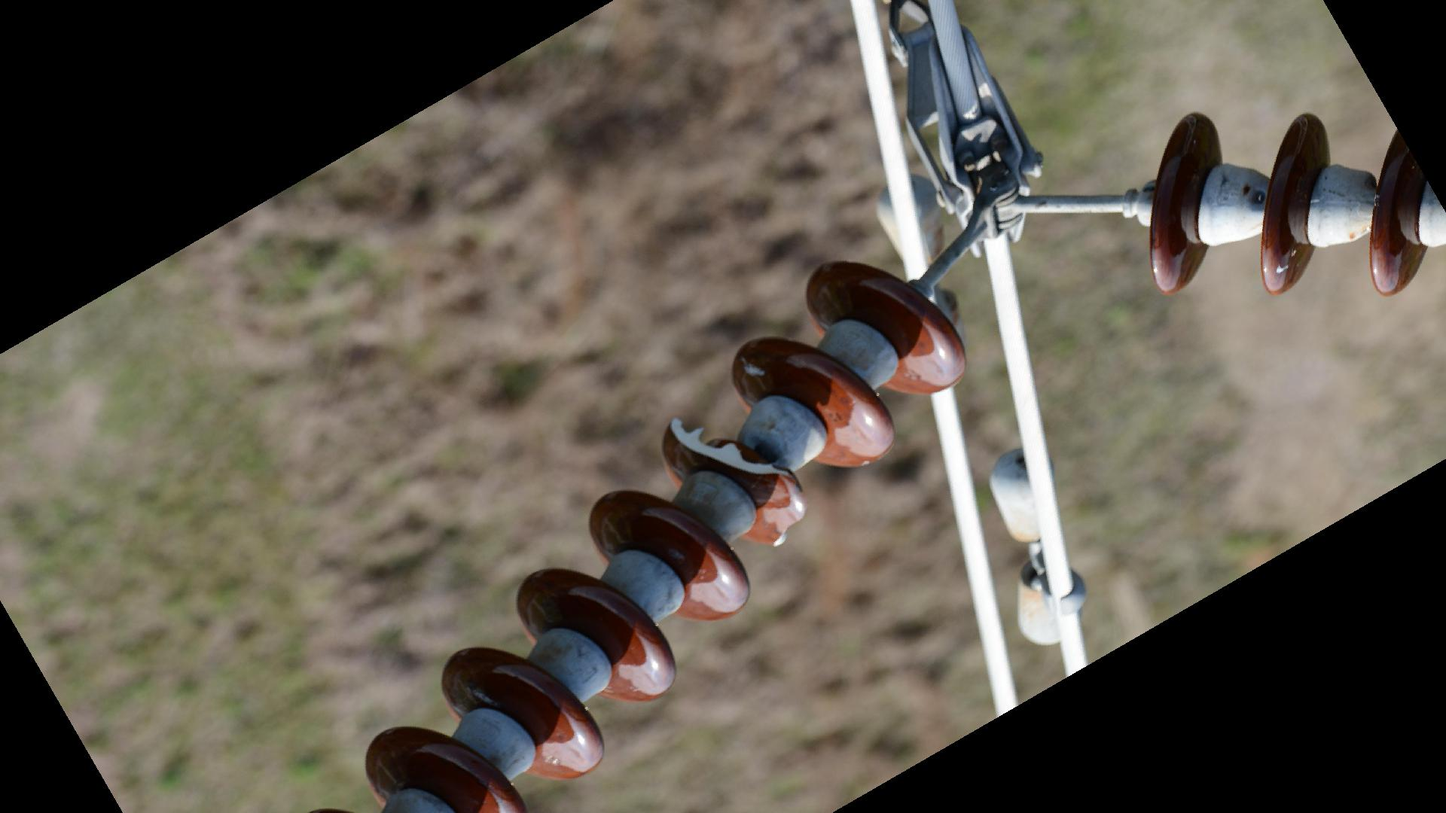insulator: (350, 254, 975, 813), (1140, 106, 1446, 303)
insulator_breakage: (664, 411, 788, 483), (769, 507, 809, 556)
